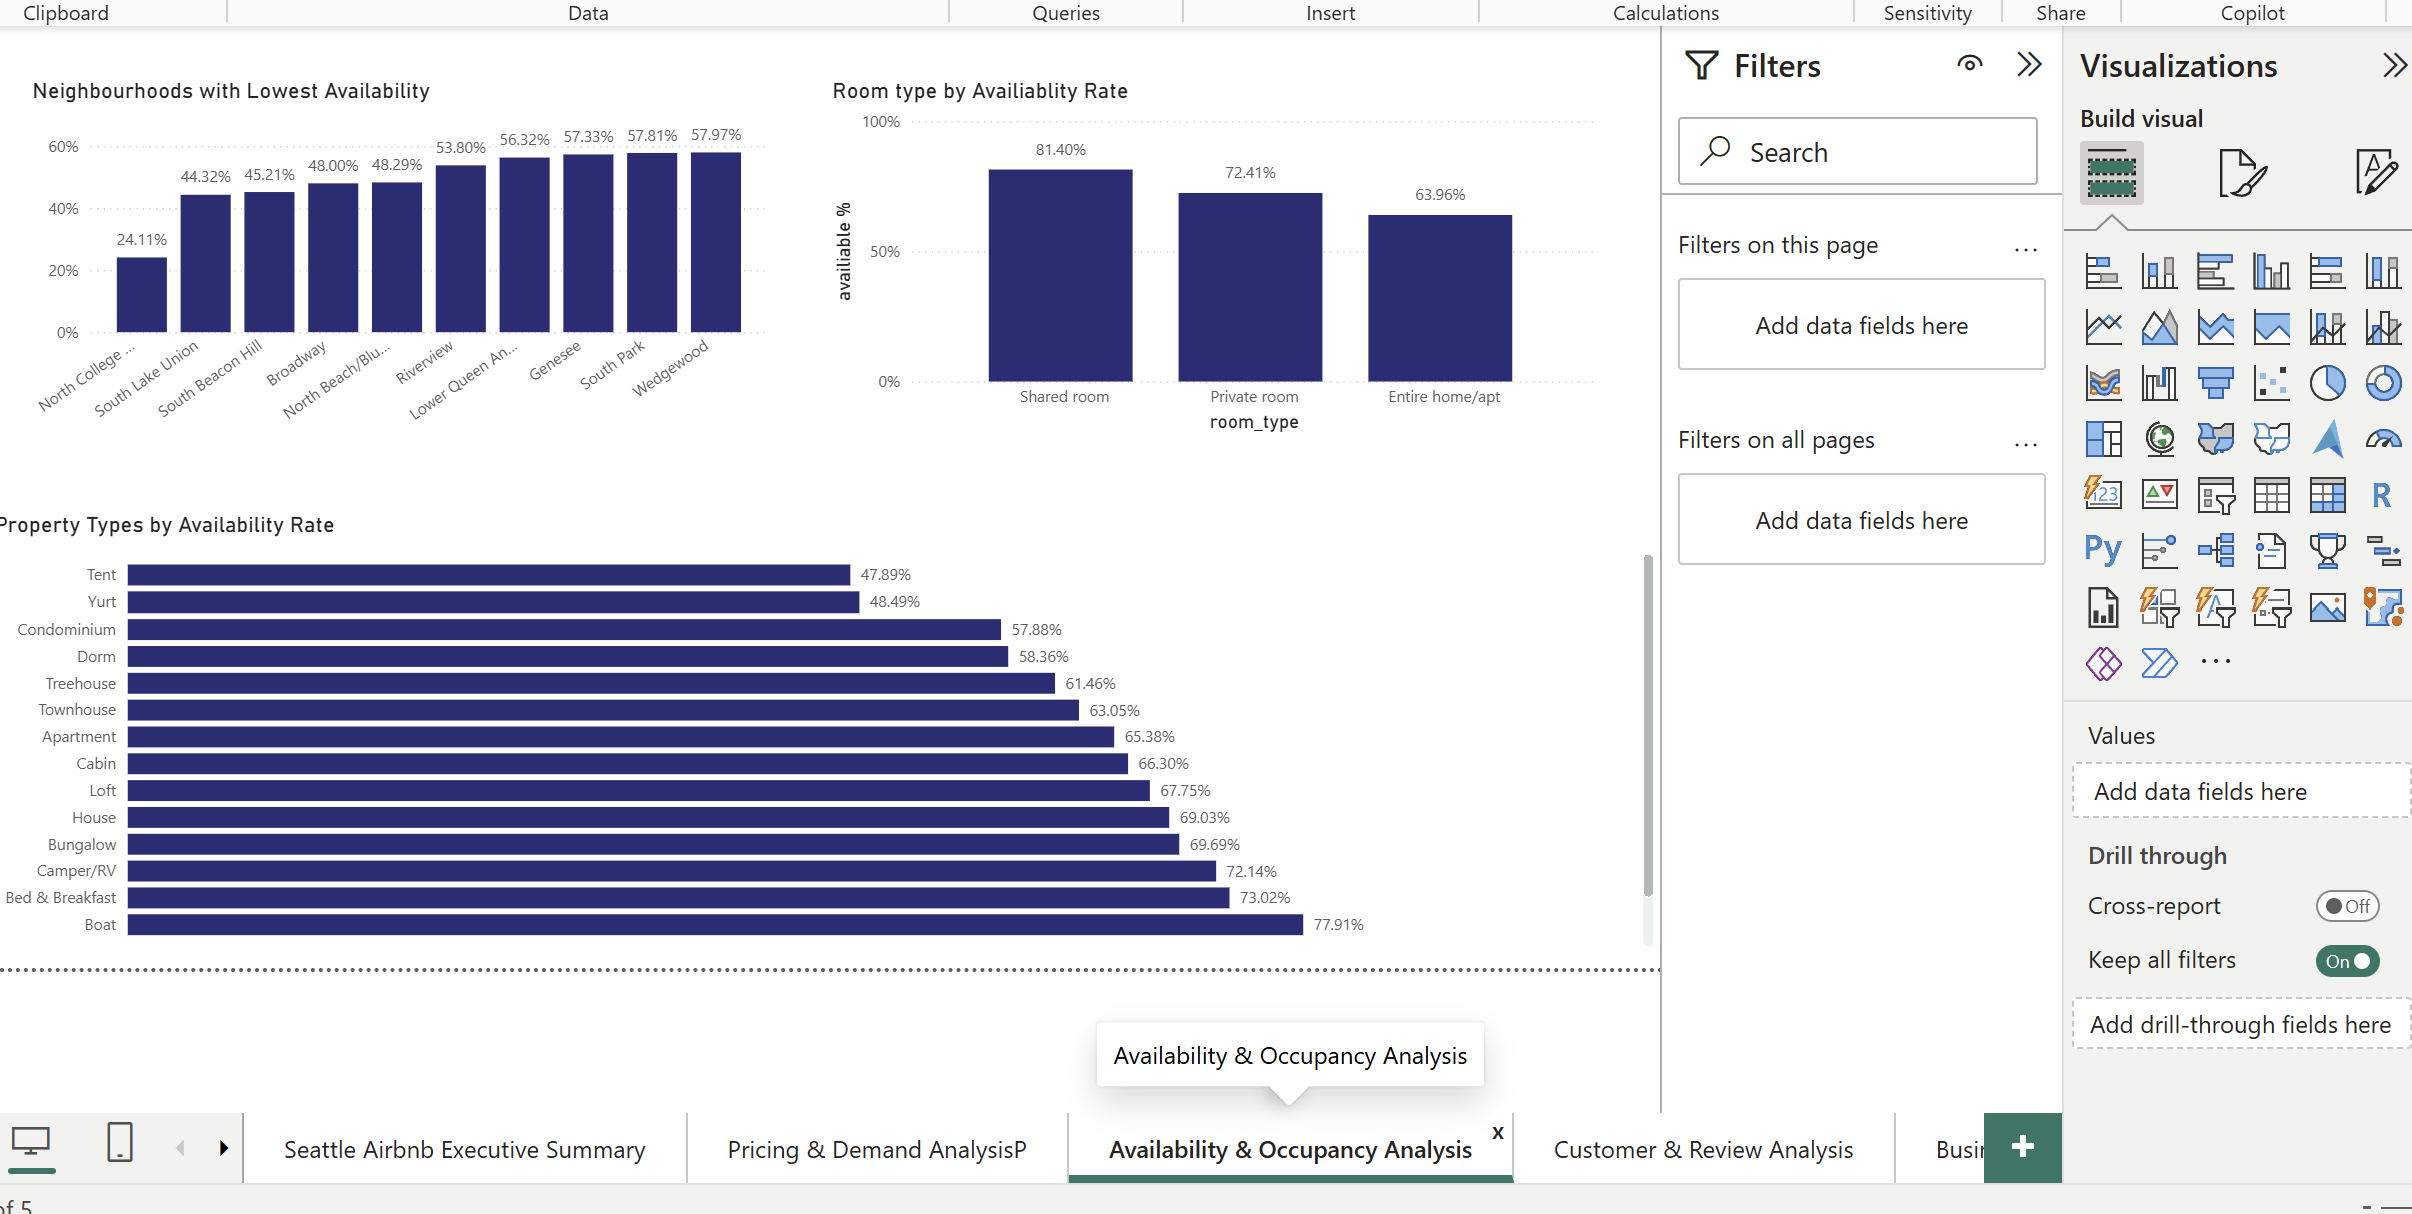

What the dashboard file says about the page in this screenshot:
{"tool":"powerbi","page":{"name":"Availability & Occupancy Analysis","canvas":[1280,720],"ordinal":2},"visuals":[{"type":"columnChart","title":"Neighbourhoods with Lowest Availability","fields":{"Category":["listings.neighbourhood"],"Y":["calendar.availiable %"]},"box":[29.1,39.8,572.6,275.6],"z":0},{"type":"clusteredBarChart","title":"Property Types by Availability Rate","fields":{"Category":["listings.property_type"],"Y":["calendar.availiable %"]},"box":[0,372.1,1280,336.8],"z":1000},{"type":"lineClusteredColumnComboChart","title":"Room type by Availiablity Rate","fields":{"Category":["listings.room_type"],"Y":["calendar.availiable %"]},"box":[640.9,39.4,594.6,275.9],"z":2000}]}

Visuals, with their boxes on the page's 1280x720 design canvas (x1, y1, x2, y2). These are canvas units, not pixel positions in the 2412x1214 screenshot, which may show the page scaled, cropped or inside an application window:
"Neighbourhoods with Lowest Availability" columnChart: region(29, 40, 602, 315)
"Property Types by Availability Rate" clusteredBarChart: region(0, 372, 1280, 709)
"Room type by Availiablity Rate" lineClusteredColumnComboChart: region(641, 39, 1236, 315)
